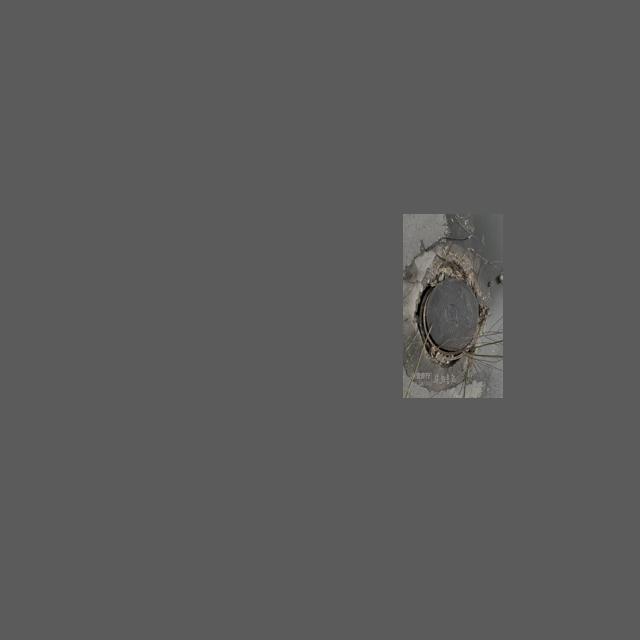circle: (405, 240, 493, 388)
